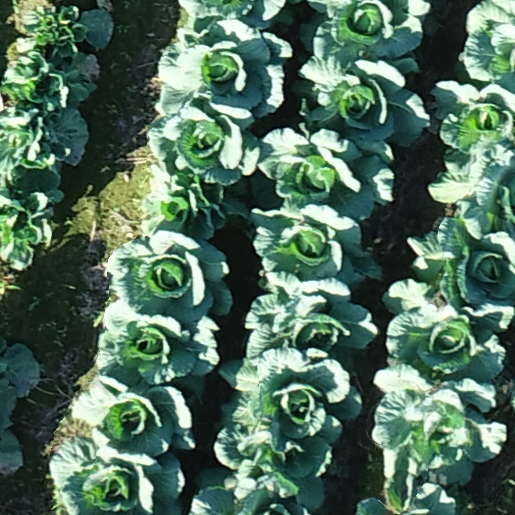Cabbage: (370, 365, 508, 485), (217, 347, 364, 454), (288, 45, 432, 146), (251, 124, 395, 222), (243, 272, 384, 372), (156, 18, 294, 120), (383, 279, 514, 384), (97, 299, 221, 404), (214, 416, 341, 513), (107, 230, 232, 327), (252, 205, 382, 290), (67, 374, 195, 457), (52, 437, 188, 515), (148, 99, 261, 189), (406, 217, 515, 307), (0, 105, 90, 201), (427, 142, 515, 239), (428, 81, 515, 179), (298, 0, 434, 59), (1, 47, 100, 115), (189, 466, 310, 515), (141, 162, 215, 240), (453, 1, 515, 94), (22, 5, 113, 58), (0, 187, 54, 271), (170, 174, 249, 228), (355, 473, 456, 515)
